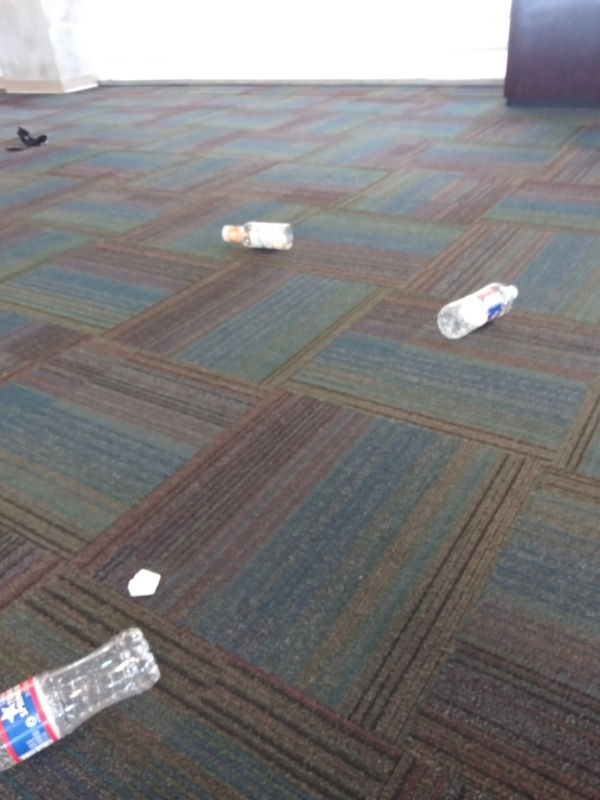bottle: (1, 621, 168, 775), (434, 277, 522, 340), (217, 217, 294, 256)
